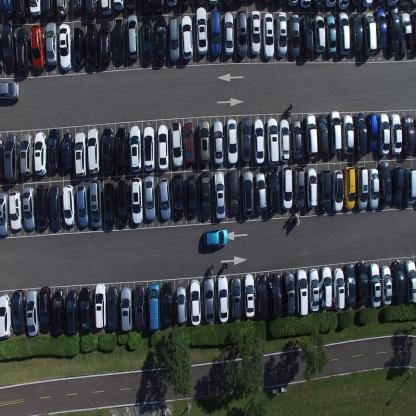car: (4, 134, 19, 181), (2, 22, 16, 72), (16, 28, 31, 74), (89, 179, 103, 228), (216, 274, 230, 323), (128, 125, 142, 173), (86, 126, 100, 174), (52, 288, 66, 336), (25, 288, 39, 336), (213, 169, 226, 220), (116, 178, 130, 224), (35, 184, 49, 230), (38, 286, 52, 332), (12, 288, 26, 334), (31, 25, 45, 71), (241, 169, 254, 218), (195, 5, 208, 54), (34, 132, 48, 177), (22, 186, 36, 231), (355, 261, 369, 306), (300, 12, 314, 57), (239, 116, 252, 164), (130, 176, 143, 224), (103, 182, 116, 230), (148, 283, 161, 331), (59, 23, 72, 71), (209, 9, 222, 57), (236, 10, 249, 58), (378, 162, 392, 206), (328, 110, 342, 154), (304, 113, 317, 160), (252, 118, 265, 165), (172, 172, 185, 219), (143, 174, 156, 221), (295, 269, 308, 316), (202, 275, 215, 322), (8, 190, 23, 230), (142, 126, 155, 172), (49, 184, 62, 230), (392, 258, 405, 304), (268, 272, 281, 318), (243, 273, 256, 319), (66, 289, 79, 335), (401, 114, 415, 156), (266, 117, 278, 166), (19, 134, 33, 176), (62, 184, 76, 226), (387, 6, 399, 55), (354, 112, 367, 157), (170, 122, 183, 167), (255, 274, 268, 319), (363, 11, 376, 56), (102, 126, 114, 174), (94, 282, 106, 330), (80, 287, 92, 335), (86, 22, 98, 70), (343, 166, 356, 210), (319, 168, 332, 212), (292, 166, 305, 210), (267, 169, 280, 213), (158, 177, 171, 221), (343, 263, 356, 307), (337, 11, 350, 55), (226, 118, 238, 165), (74, 131, 86, 178), (141, 17, 153, 64), (168, 15, 180, 62), (288, 13, 300, 60), (116, 126, 128, 172), (134, 284, 146, 330), (120, 286, 132, 332), (107, 286, 119, 332), (114, 18, 126, 64), (181, 14, 193, 60), (290, 118, 303, 160), (305, 166, 318, 208), (203, 227, 229, 248), (332, 268, 345, 310), (99, 20, 112, 62), (316, 114, 328, 159), (278, 118, 290, 163), (186, 173, 198, 218), (183, 121, 195, 166), (48, 127, 60, 172), (283, 271, 295, 316), (46, 21, 58, 66), (157, 123, 168, 172), (155, 14, 166, 63), (356, 166, 368, 210), (228, 168, 239, 216), (200, 170, 211, 218), (404, 260, 416, 304), (320, 266, 332, 310), (308, 267, 320, 311), (190, 279, 201, 327), (0, 294, 12, 338), (263, 12, 274, 60), (391, 166, 404, 206), (276, 10, 287, 57), (378, 113, 390, 156), (76, 184, 88, 227), (199, 119, 210, 165), (230, 274, 241, 320), (250, 10, 261, 56), (73, 26, 85, 68), (162, 281, 173, 326), (127, 14, 138, 59), (224, 11, 235, 56), (61, 132, 74, 170), (390, 113, 402, 154), (342, 114, 354, 155), (281, 166, 292, 210), (369, 263, 380, 307), (325, 12, 336, 56), (255, 172, 267, 212), (380, 265, 392, 305), (404, 166, 416, 205), (332, 168, 343, 210), (213, 119, 223, 165), (366, 112, 378, 150), (175, 286, 187, 324), (313, 14, 325, 52), (350, 14, 362, 52), (375, 7, 386, 48), (400, 12, 411, 53), (368, 168, 379, 208), (0, 80, 20, 101), (0, 193, 9, 238), (13, 0, 28, 21), (410, 10, 416, 55), (0, 0, 13, 20), (28, 0, 42, 18), (42, 0, 55, 19), (55, 0, 70, 16), (86, 0, 97, 18), (71, 0, 84, 14), (0, 138, 4, 183), (140, 0, 152, 15), (101, 0, 112, 15), (153, 0, 164, 14), (0, 28, 3, 75), (337, 0, 349, 11), (312, 0, 324, 11), (125, 0, 137, 11), (113, 0, 124, 12), (300, 0, 311, 9), (385, 0, 399, 7), (286, 0, 298, 8), (166, 0, 178, 8), (399, 0, 410, 8), (362, 0, 373, 8), (350, 0, 362, 7), (221, 0, 233, 7), (195, 0, 207, 7), (325, 0, 335, 8), (180, 0, 191, 7), (207, 0, 219, 6), (276, 0, 286, 7), (374, 0, 384, 6), (262, 0, 272, 6), (411, 0, 415, 7)
